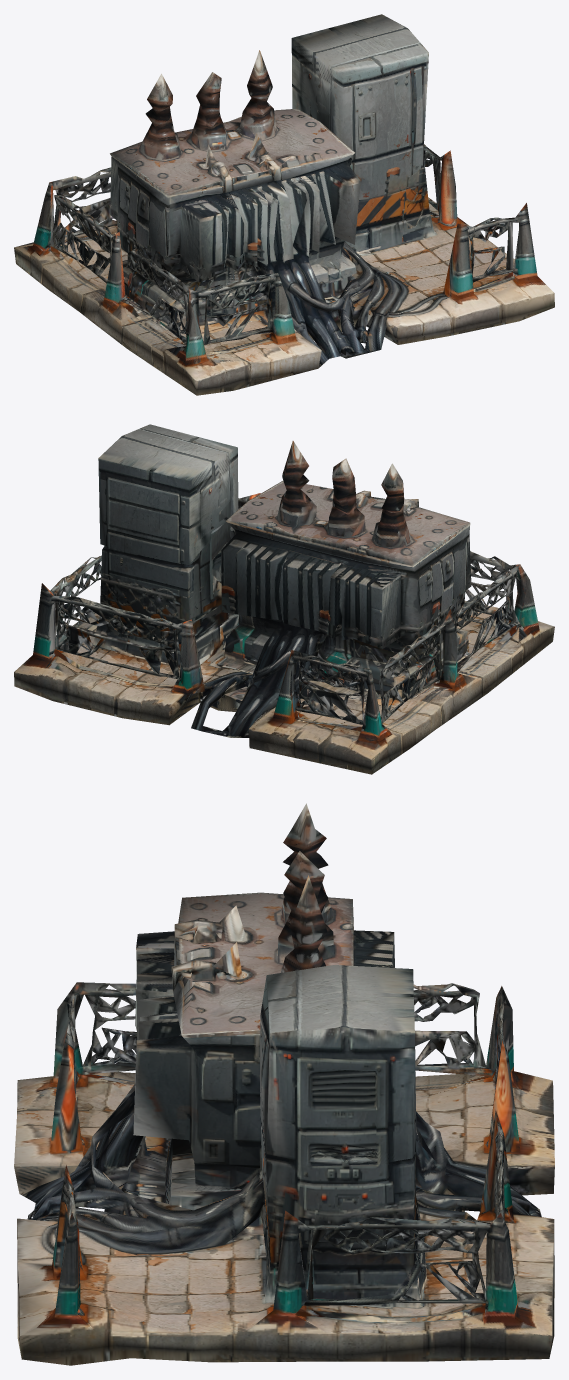
Rendered from EX_Lab_Transformer.fbx.
The picture shows the model from 3 angles, top to bottom: view 1: azimuth 30°, elevation 25°; view 2: azimuth 150°, elevation 25°; view 3: azimuth 270°, elevation 25°; orthographic projection. The views are drawn at different scales.
Visible parts, largest first — view 1: texture_mapping; view 2: texture_mapping; view 3: texture_mapping.
Part boxes in pixels (<box>): texture_mapping: <box>14,14,554,395</box>; texture_mapping: <box>14,424,554,774</box>; texture_mapping: <box>14,803,554,1365</box>.
Size of the model in its own units: 0.9976 by 0.8764 by 0.6289.
Materials: 1 (1 with a texture image).
